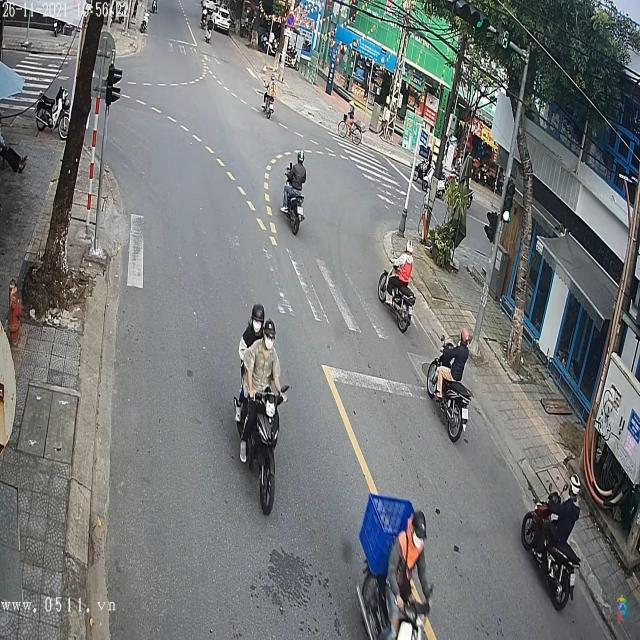motorcycle: (522, 483, 579, 613), (242, 385, 285, 516), (426, 331, 471, 440), (379, 254, 417, 331), (282, 194, 304, 237)
